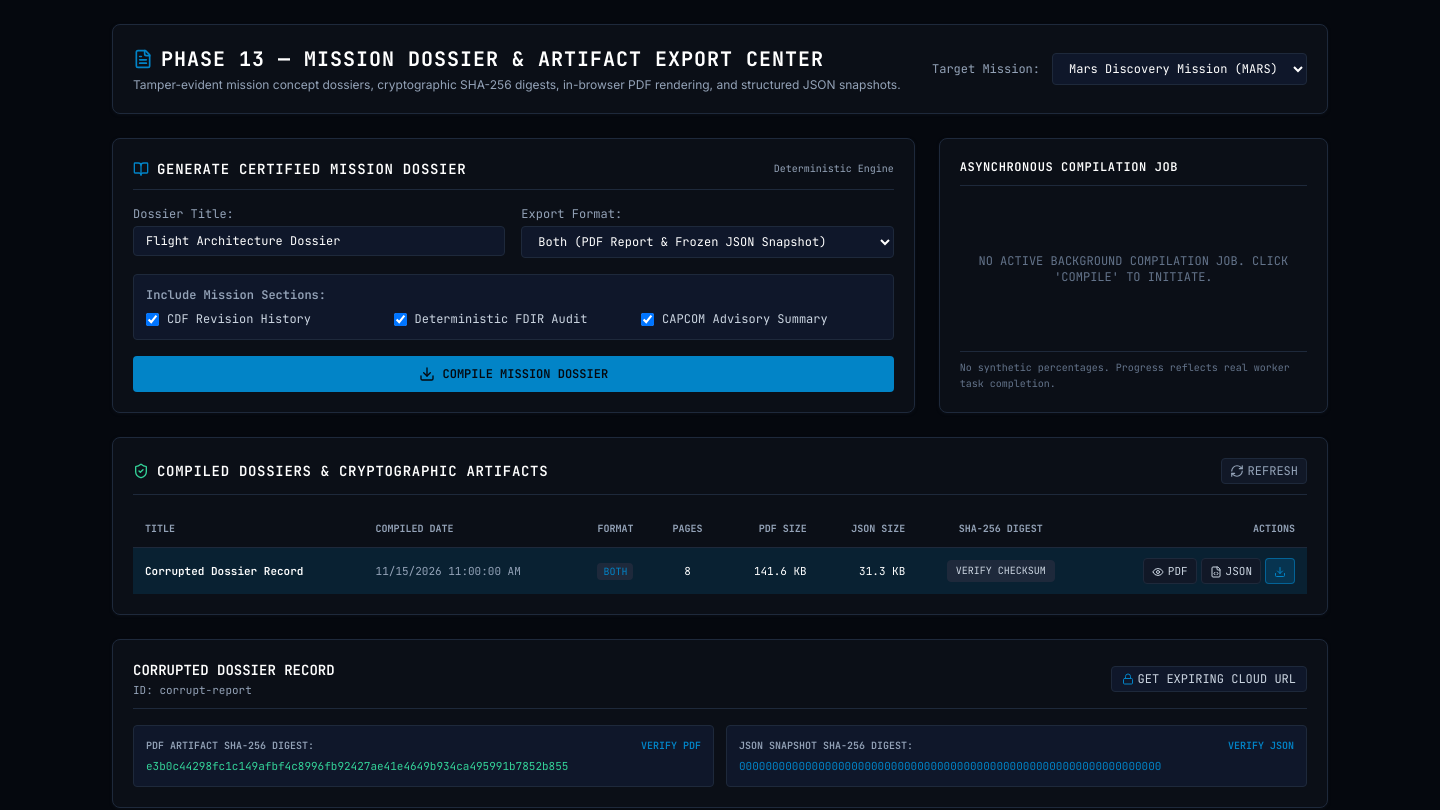
Test: Phase 13 — Mission Dossier & Artifact Export Center › cryptographically verifies artifact SHA-256 on demand and detects corrupted payloads
The width and height of the screenshot is (1440, 810).
Click the button with aria-label "VERIFY SHA-256 FOR Corrupted Dossier Record" at {"x": 1001, "y": 571}, box [947,560,1055,582]
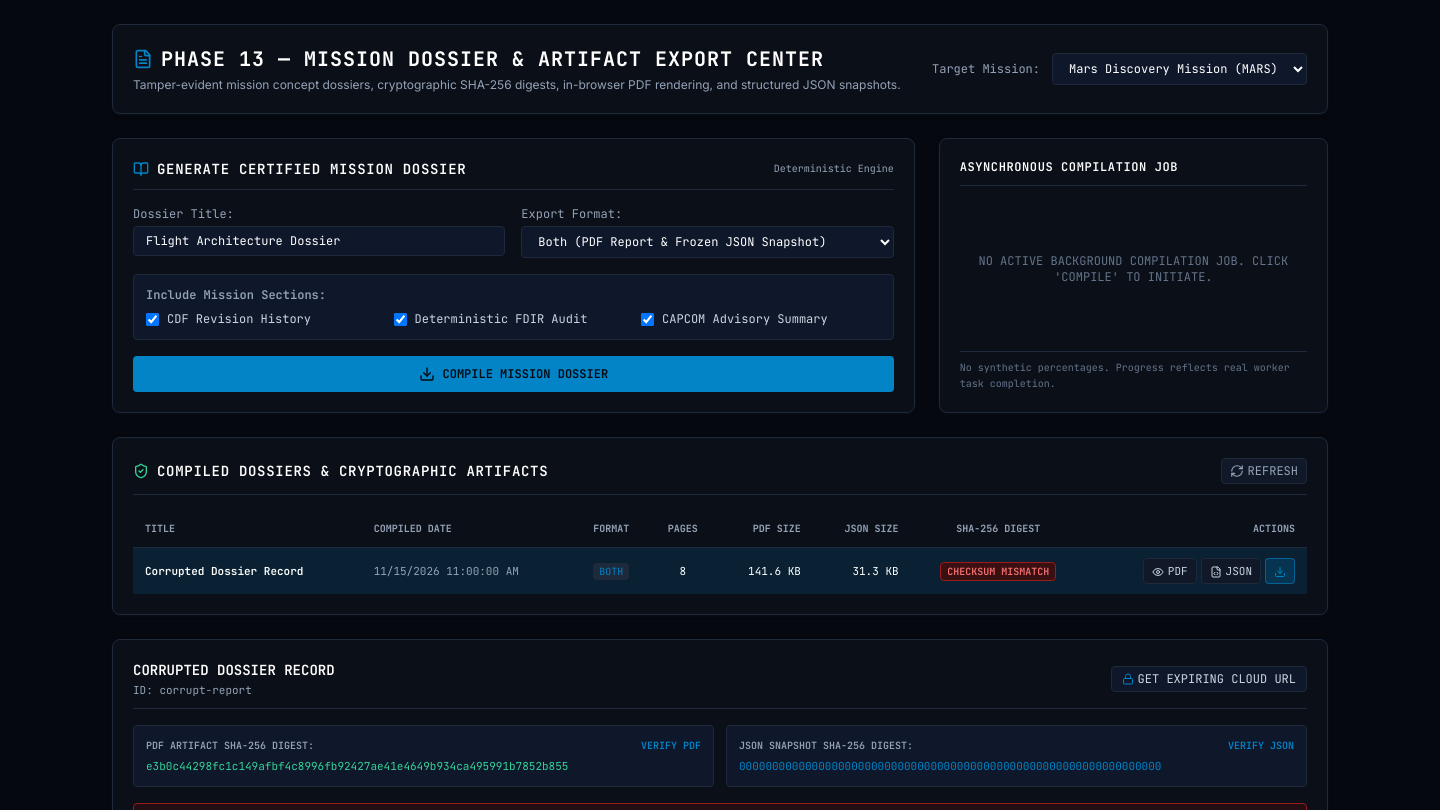
Result: the text "CHECKSUM MISMATCH" is shown at [940,562,1056,580]
